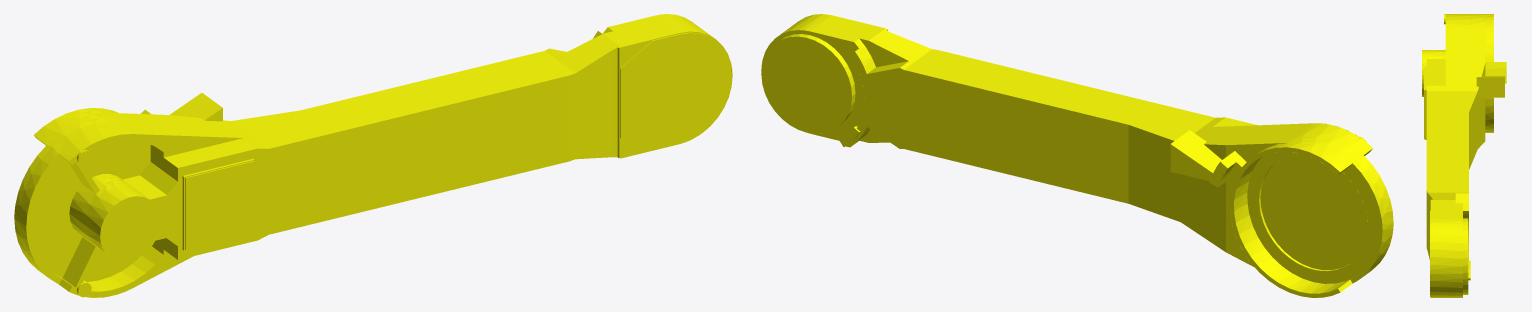
3 renders of one model, left to right at view 1: azimuth 30°, elevation 25°; view 2: azimuth 150°, elevation 25°; view 3: azimuth 270°, elevation 25°, orthographic. The views are drawn at different scales.
Visible parts, largest first — view 1: node; view 2: node; view 3: node.
Part boxes in pixels (bbox=[...]): node: bbox=[14, 14, 732, 297]; node: bbox=[761, 14, 1393, 297]; node: bbox=[1422, 14, 1506, 297].
Size of the model in its own units: 1418 by 316 by 254.
